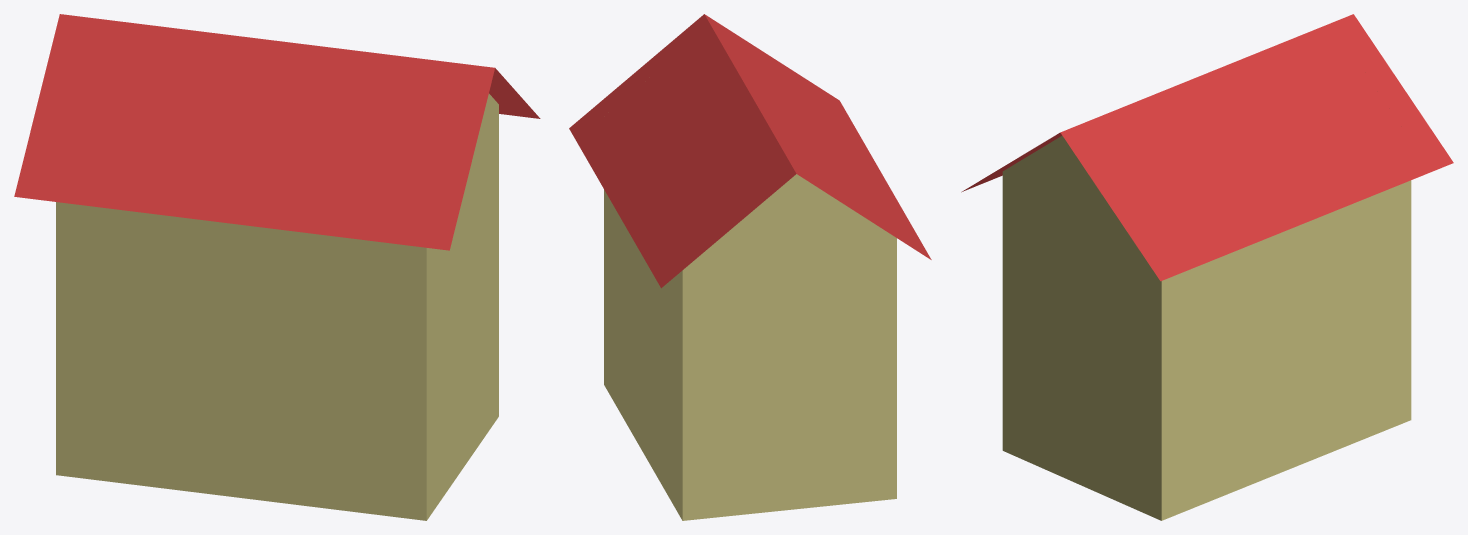
3 views of the same model, side by side, from view 1: azimuth 30°, elevation 25°; view 2: azimuth 150°, elevation 25°; view 3: azimuth 270°, elevation 25° (orthographic). The views are drawn at different scales.
Parts seen in each view (by area): view 1: group_5, group_3, group_4; view 2: group_5, group_3, group_4; view 3: group_5, group_3, group_4.
Boxes of the visible parts, box(x1,y1,x2,y2) form: group_5: box(56, 93, 498, 520); group_3: box(14, 14, 540, 250); group_4: box(60, 14, 494, 250); group_5: box(604, 174, 896, 520); group_3: box(604, 14, 931, 259); group_4: box(569, 14, 839, 288); group_5: box(1002, 135, 1411, 520); group_3: box(962, 14, 1410, 261); group_4: box(963, 14, 1453, 281).
Bounding box in the file's own units: 16.22 × 16.34 × 13.23.
